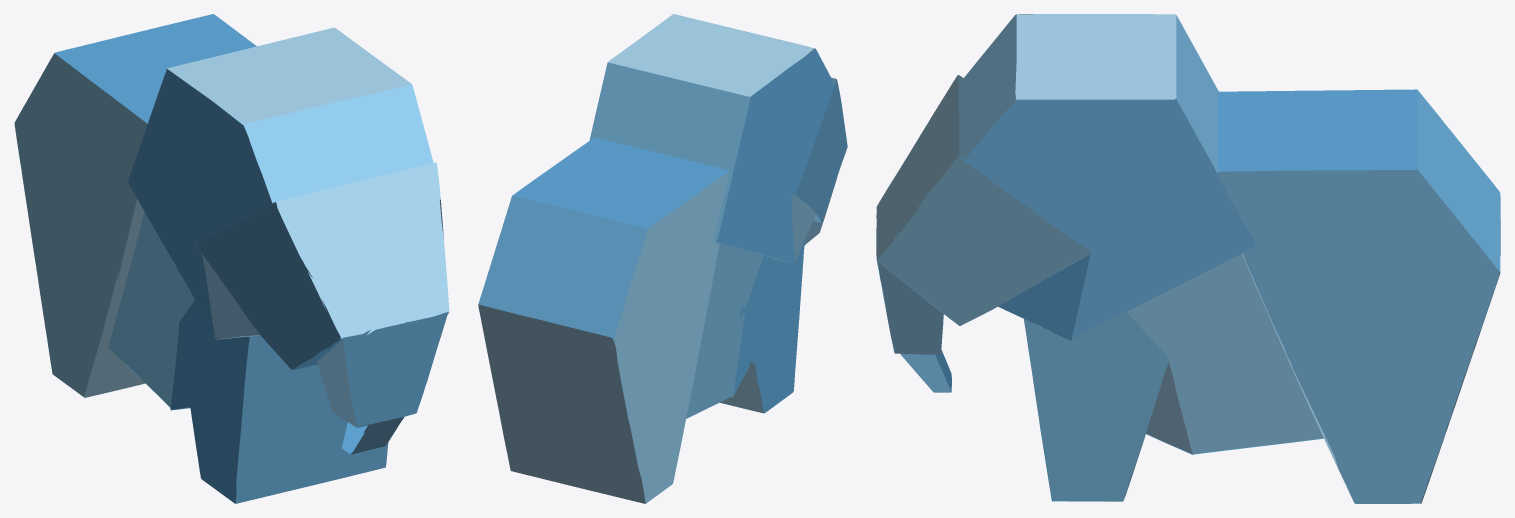
The model's file is gajah.glb.
The picture shows the model from 3 angles, left to right: view 1: azimuth 30°, elevation 25°; view 2: azimuth 150°, elevation 25°; view 3: azimuth 270°, elevation 25°; orthographic projection. The views are drawn at different scales.
Parts seen in each view (by area): view 1: gajah; view 2: gajah; view 3: gajah.
Part boxes in pixels (bbox=[...]): gajah: bbox=[14, 14, 449, 503]; gajah: bbox=[478, 14, 847, 503]; gajah: bbox=[876, 14, 1500, 503].
Size of the model in its own units: 0.6994 by 1.37 by 1.9.
